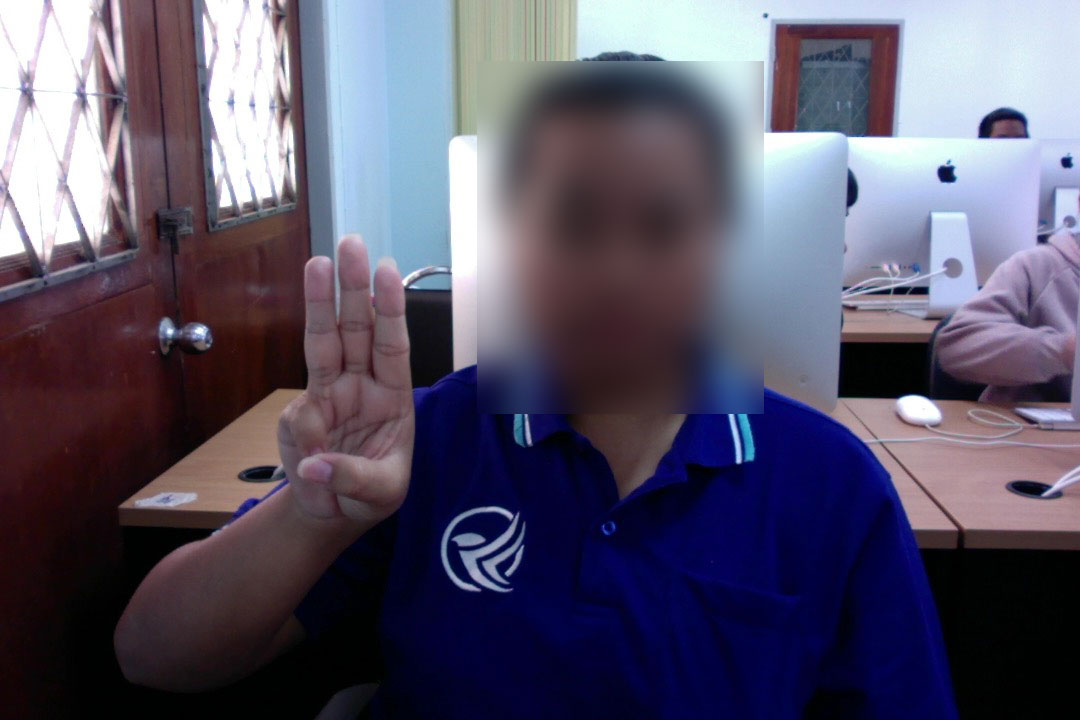wor: (275, 226, 436, 532)
